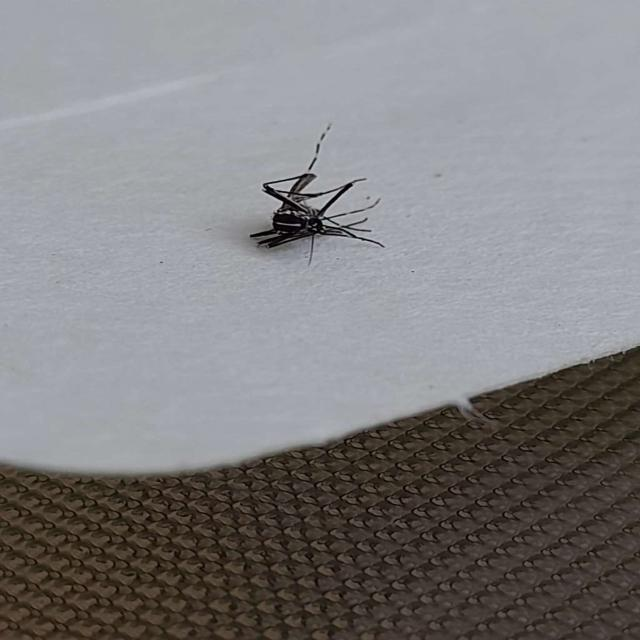albopictus: (244, 120, 382, 262)
